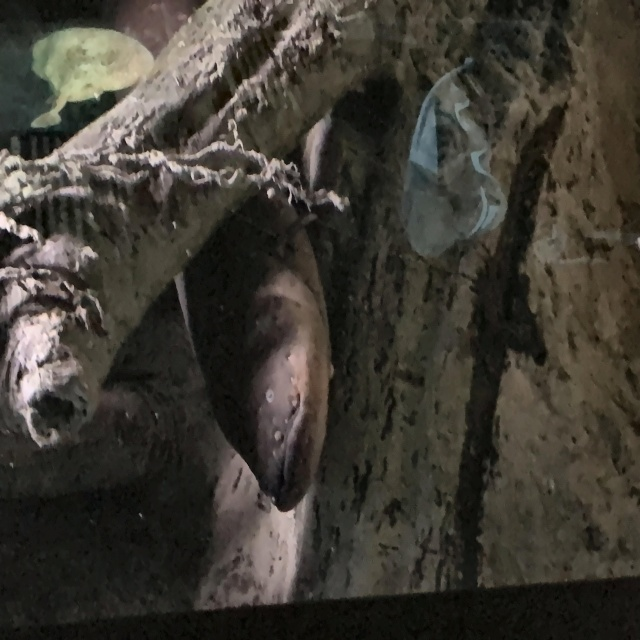fish: (171, 169, 338, 515)
